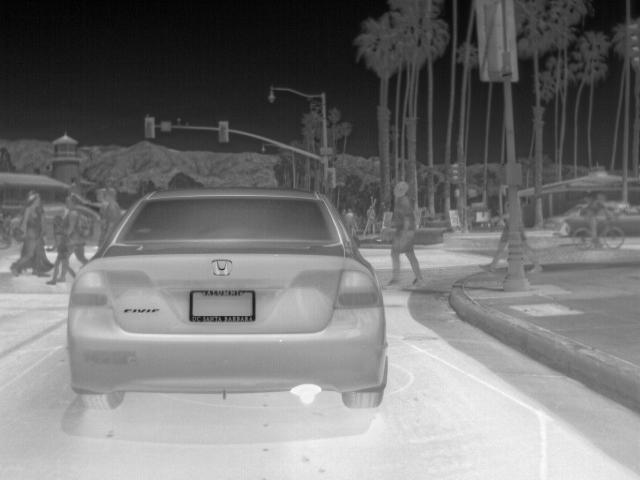car: (69, 185, 390, 411), (559, 204, 589, 236)
person: (385, 181, 427, 287), (10, 192, 52, 278), (61, 192, 92, 266), (45, 215, 76, 286), (90, 190, 118, 255), (582, 193, 610, 250)
